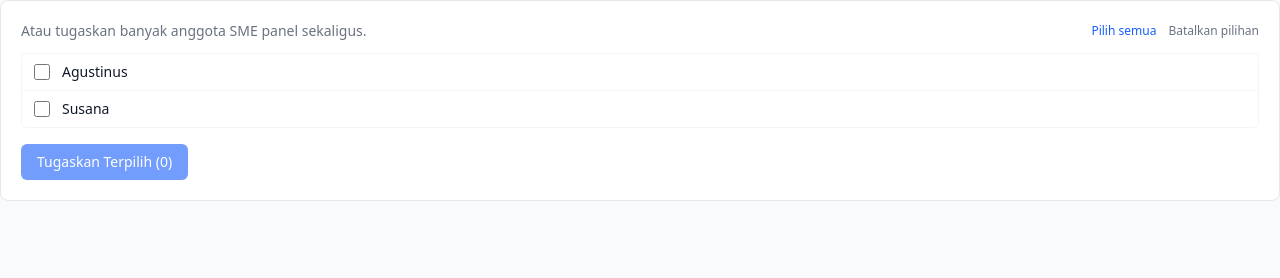
AssignRespondenBanyak (Task Inventory) › pilih semua lalu submit mengirim seluruh partisipan_ids
Click the button "Pilih semua". click: (1124, 31)
box: [1091,23,1156,39]
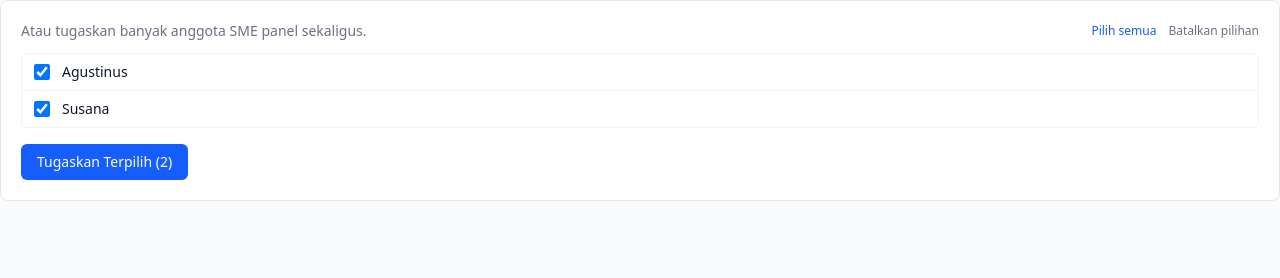
Click the button "Tugaskan Terpilih (2)". click: (105, 162)
box: [21,144,188,180]
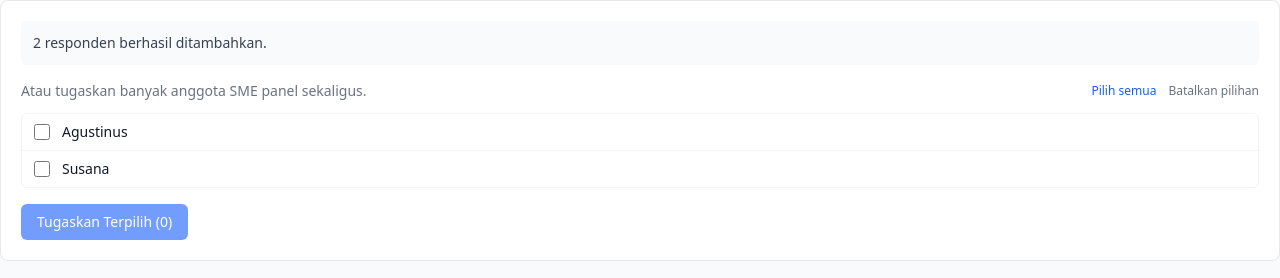
Expected: the text "2 responden berhasil ditambahkan." is shown, [33,33,267,52]
